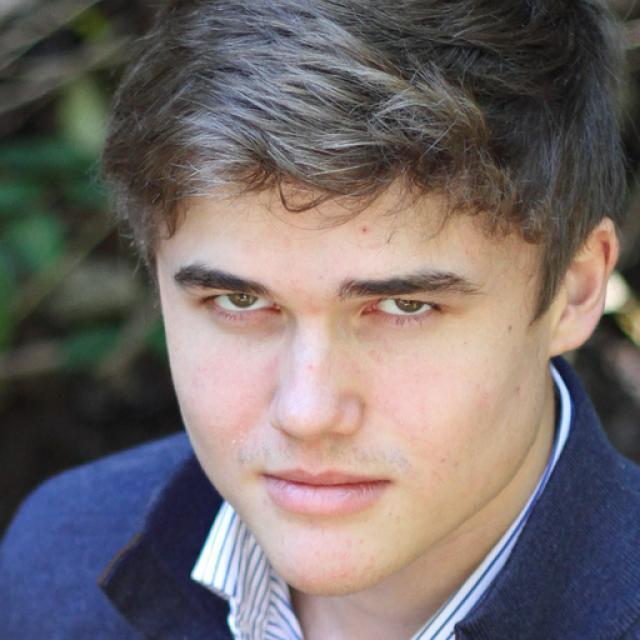0_rostro_limpio: (154, 0, 618, 598)
